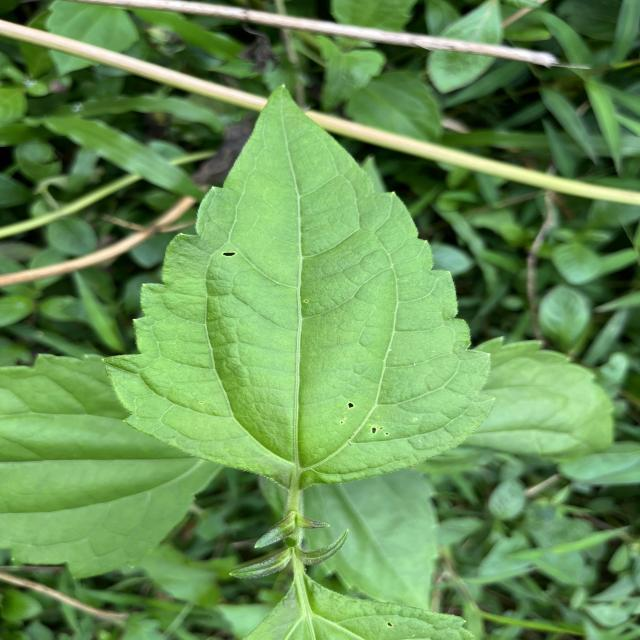Chromolaena odorata: (96, 76, 502, 492)
